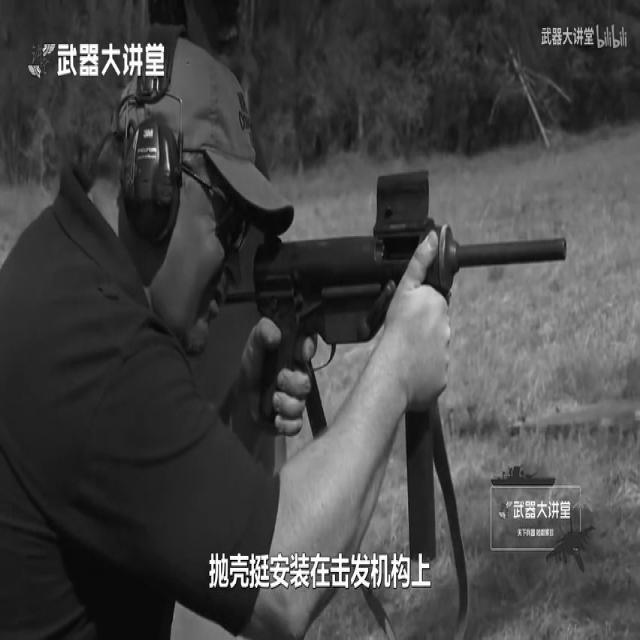Sub-machine-gun: (184, 104, 560, 640)
